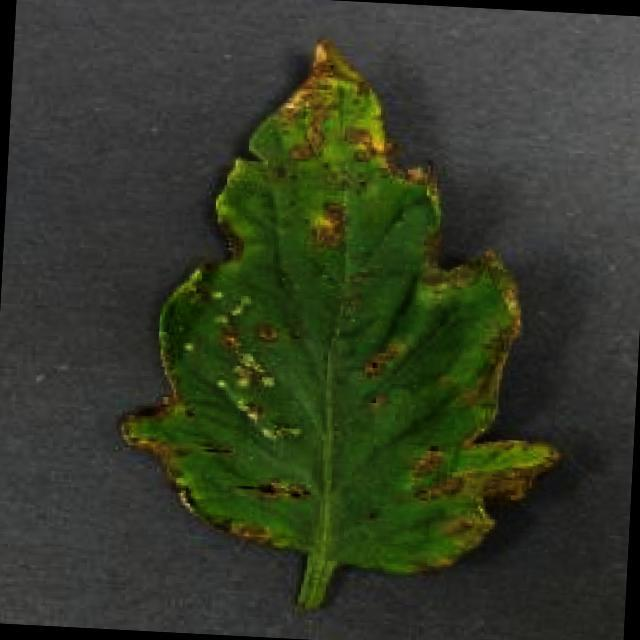Tomato bacterial spot leaf: (102, 18, 596, 600)
